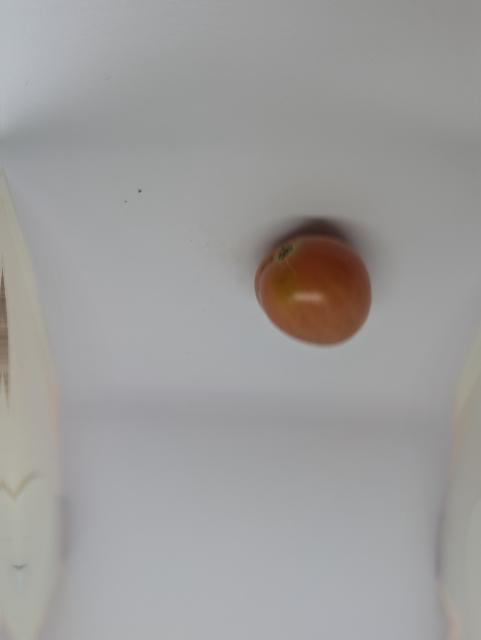turning: (245, 224, 387, 353)
